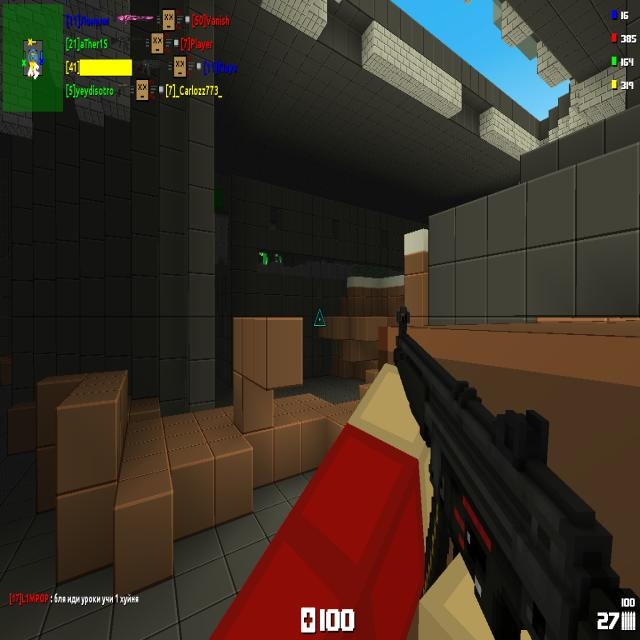enemy: (259, 252, 268, 264), (275, 254, 282, 262)
